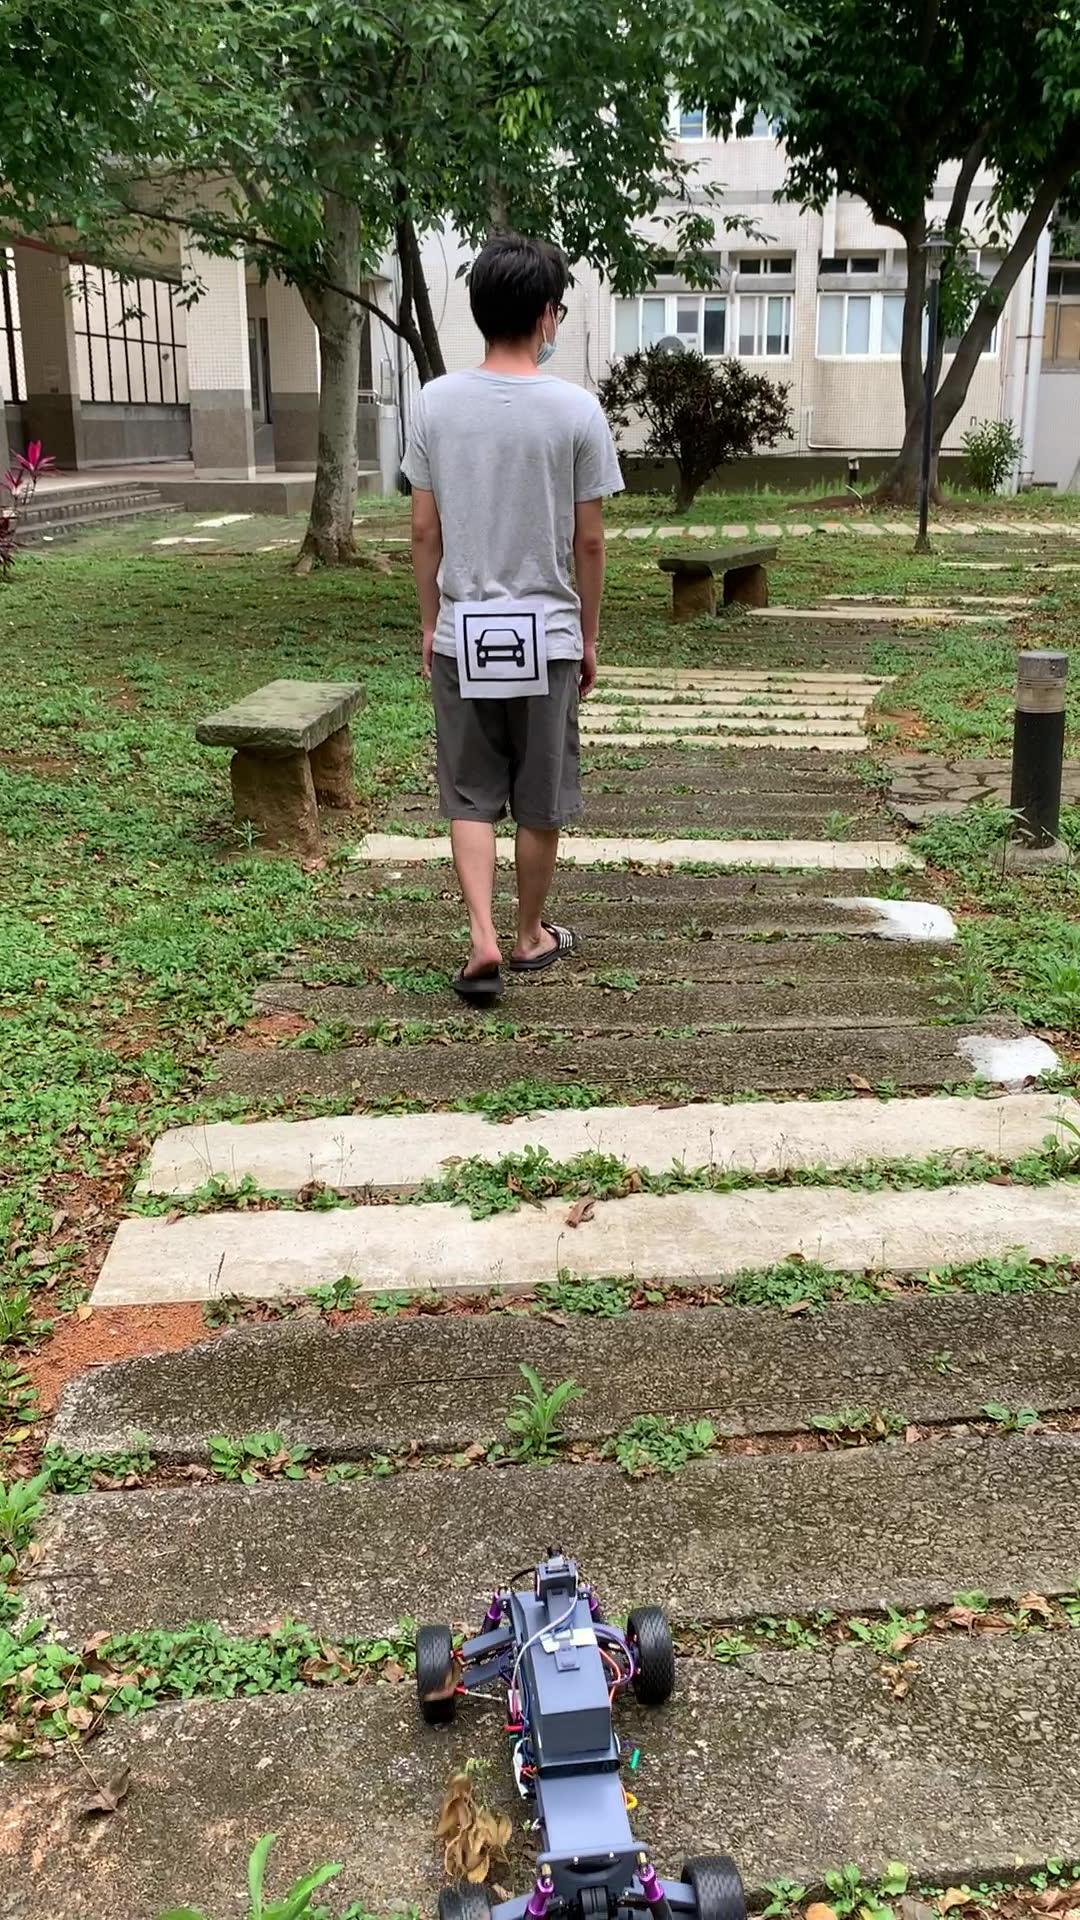car_img: (463, 613, 539, 682)
